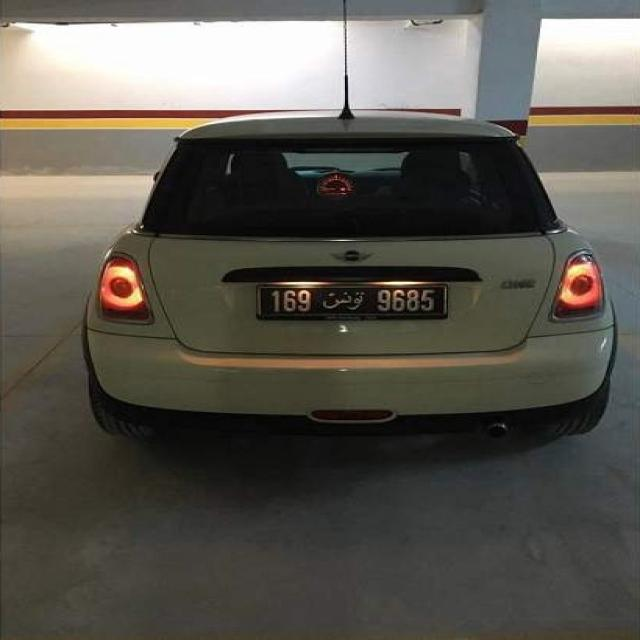licence plate: (262, 289, 443, 314)
